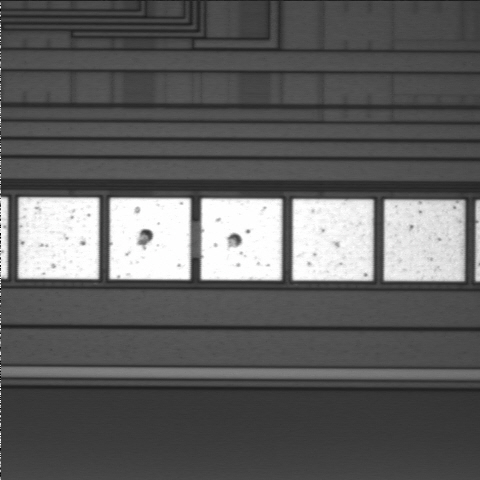pad: (18, 197, 99, 279), (110, 198, 191, 280), (201, 198, 282, 280), (292, 199, 373, 281), (384, 200, 464, 281)
